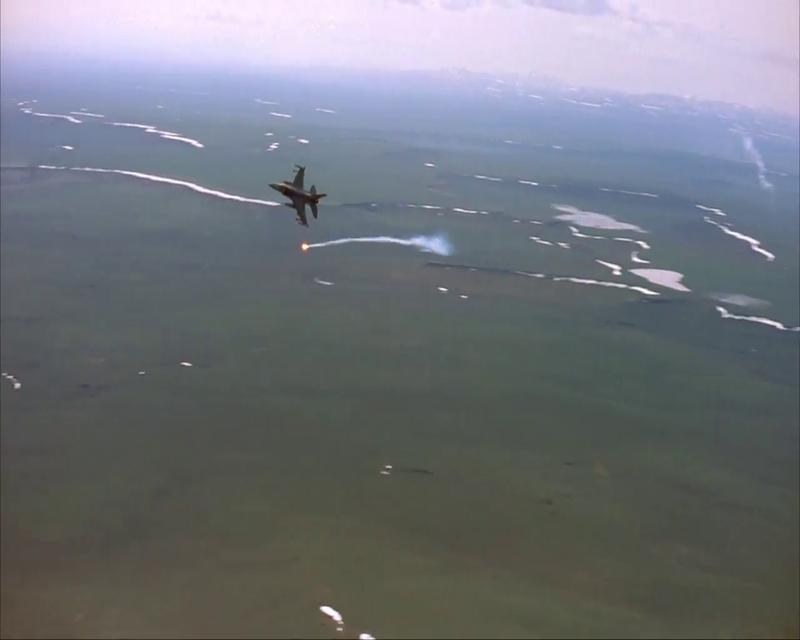UAV: (267, 162, 327, 228)
